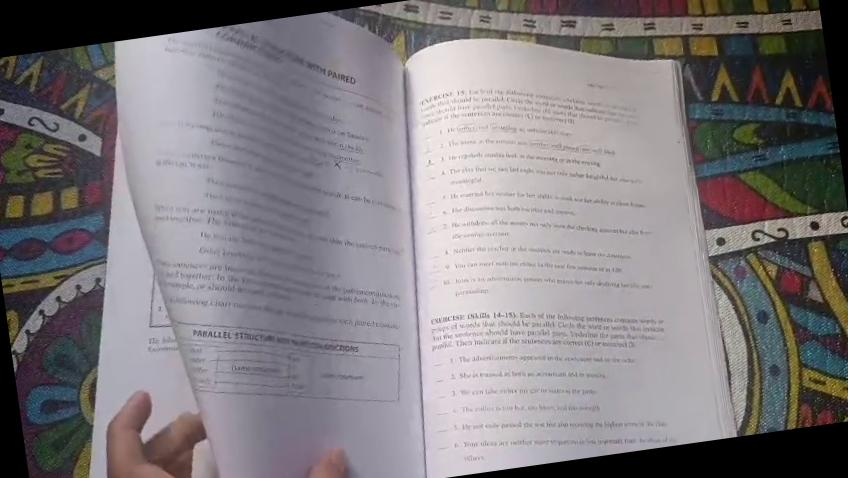Kertas: (371, 5, 731, 478), (406, 40, 734, 477), (116, 14, 423, 477), (83, 150, 195, 477)
